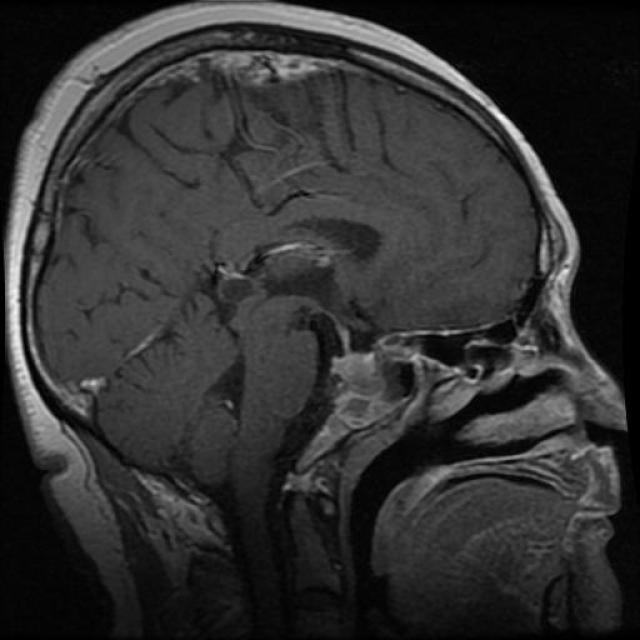pituitary: (310, 316, 423, 432)
